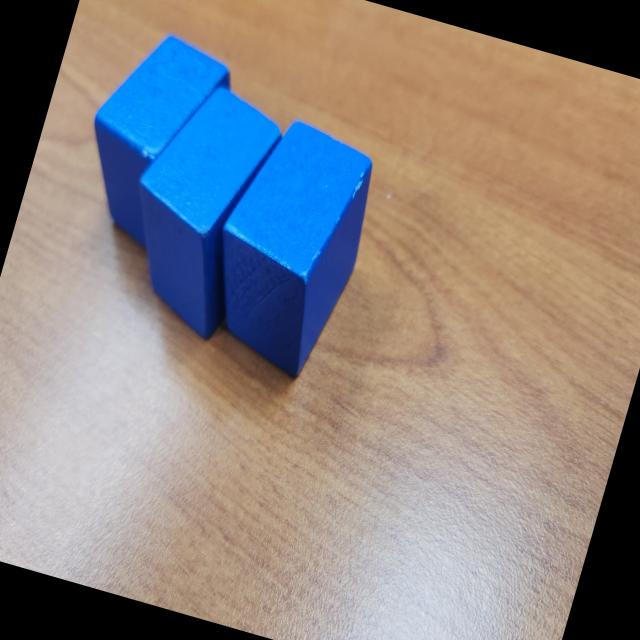blue: (187, 108, 390, 389), (100, 71, 292, 348), (60, 19, 242, 266)
